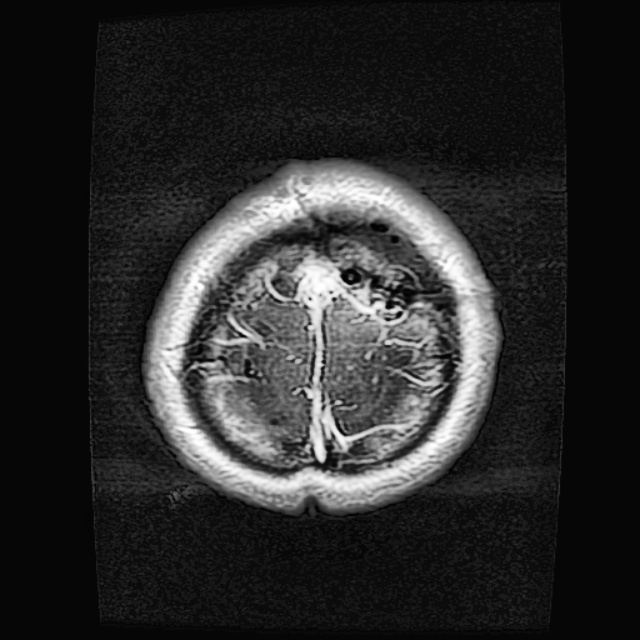Pituitary: (260, 212, 444, 307)
